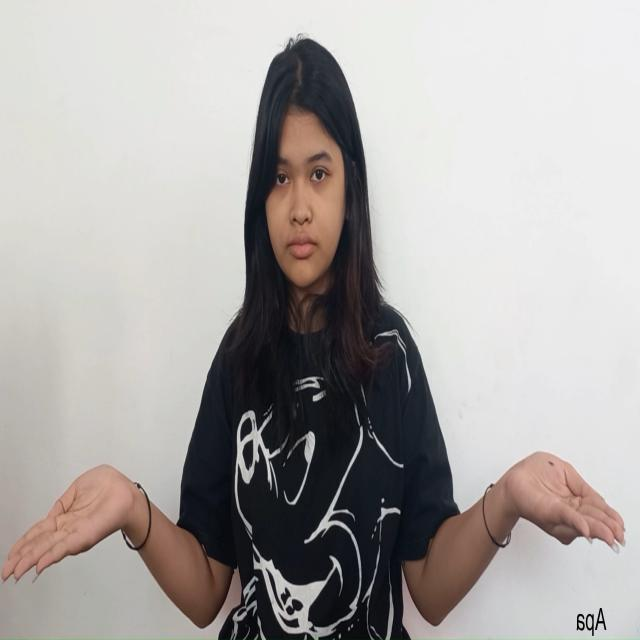Apa -BISINDO-: (0, 448, 628, 590)
